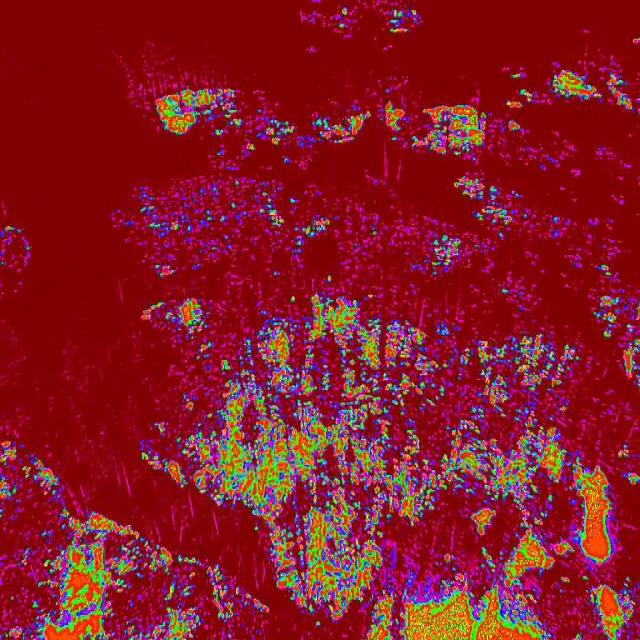fire: (152, 287, 640, 640), (0, 436, 66, 640), (66, 510, 152, 640), (429, 172, 514, 272), (381, 99, 490, 163), (301, 0, 424, 49), (156, 81, 240, 151), (256, 189, 334, 251), (554, 62, 634, 116), (102, 189, 151, 260), (308, 105, 372, 150), (0, 224, 35, 278), (136, 436, 150, 464)
